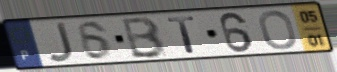6: (218, 10, 255, 54), (76, 20, 115, 61)
B: (121, 15, 169, 60)
J: (46, 21, 76, 64)
O: (257, 9, 299, 51)
T: (165, 15, 199, 55)
